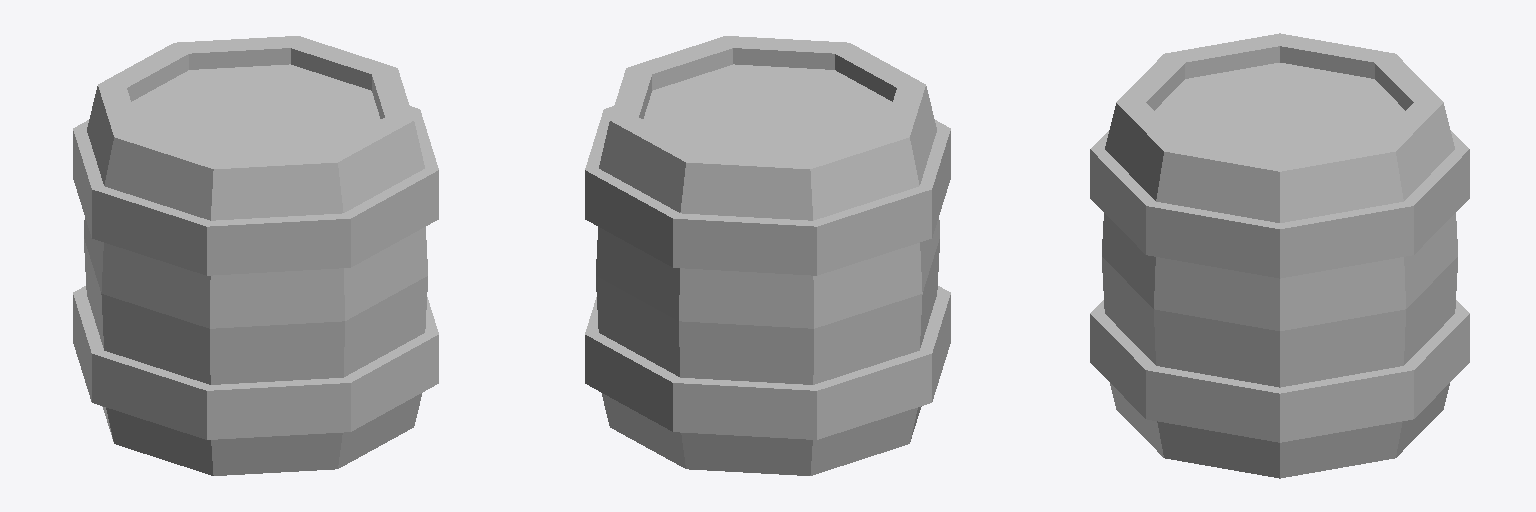
The model's file is barrel.obj.
3 renders of one model, left to right at view 1: azimuth 30°, elevation 25°; view 2: azimuth 150°, elevation 25°; view 3: azimuth 270°, elevation 25°, orthographic.
Parts seen in each view (by area): view 1: varil_higt; view 2: varil_higt; view 3: varil_higt.
Boxes of the visible parts, box(x1,y1,x2,y2) form: varil_higt: box(73, 36, 438, 475); varil_higt: box(585, 36, 950, 475); varil_higt: box(1090, 33, 1469, 478).
Bounding box in the file's own units: 12.26 × 10.94 × 12.26.